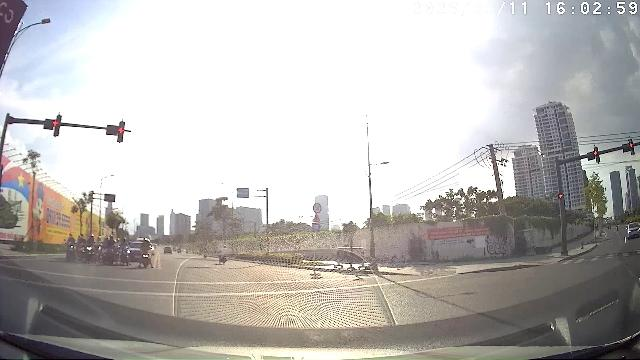127-toc-do-toi-da-50: (313, 203, 322, 213)
